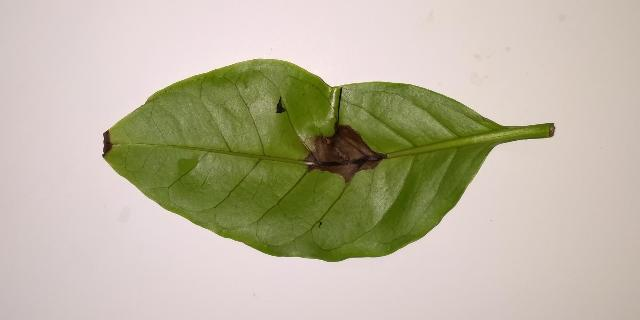rust: (300, 118, 388, 183), (102, 129, 114, 160), (108, 162, 110, 165)
